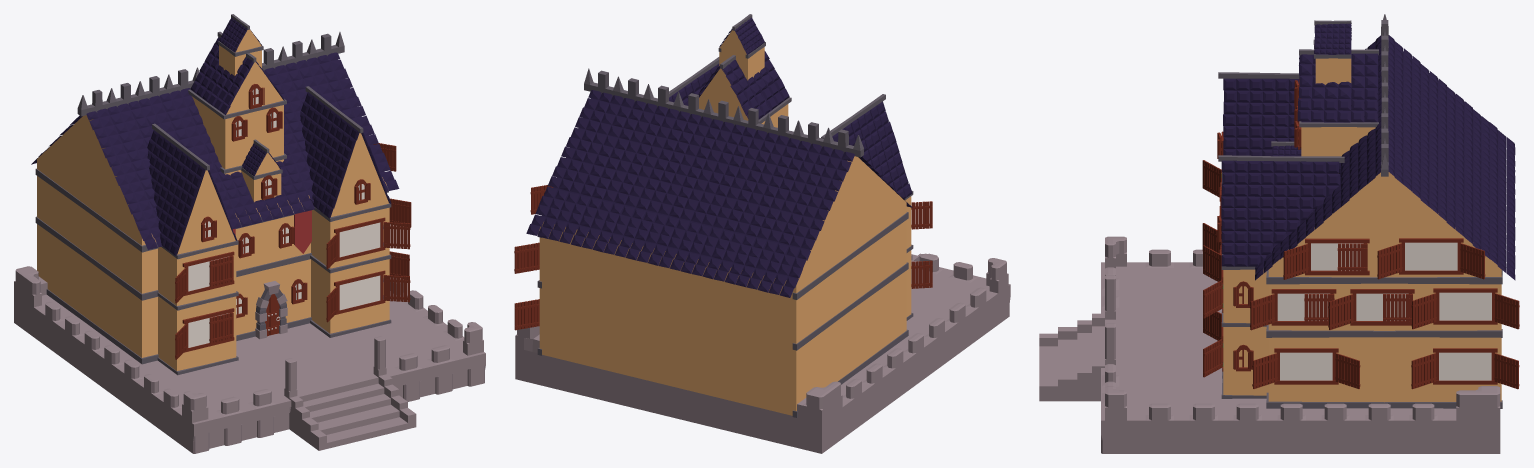
File: House_of_law.fbx
3 renders of one model, left to right at view 1: azimuth 30°, elevation 25°; view 2: azimuth 150°, elevation 25°; view 3: azimuth 270°, elevation 25°, orthographic. The views are drawn at different scales.
Visible parts, largest first — view 1: Дом суд; view 2: Дом суд; view 3: Дом суд.
Part boxes in pixels (x1,y1,x2,y2): Дом суд: [14, 14, 485, 453]; Дом суд: [514, 14, 1010, 453]; Дом суд: [1039, 14, 1519, 453].
Size of the model in its own units: 1927 by 2023 by 2471.
